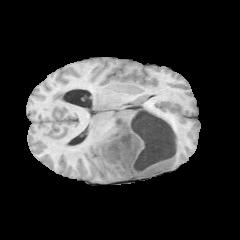glioma: (52, 92, 181, 179)
